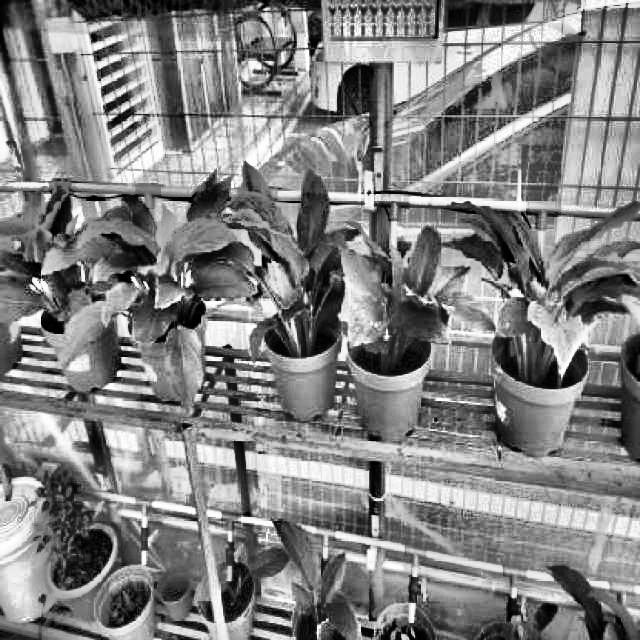plants: (53, 190, 261, 408), (440, 198, 640, 394), (208, 146, 350, 362), (339, 209, 504, 380), (0, 181, 118, 367)
